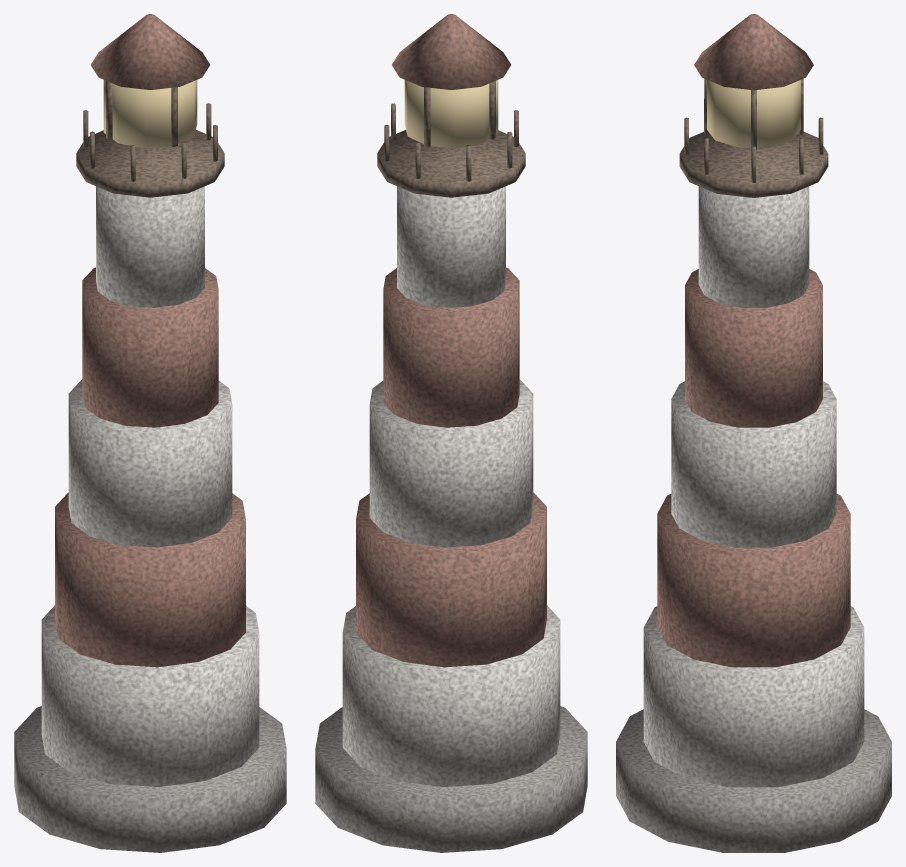
The model's file is prop_mercusuar.obj.
3 views of the same model, side by side, from view 1: azimuth 30°, elevation 25°; view 2: azimuth 150°, elevation 25°; view 3: azimuth 270°, elevation 25° (orthographic).
Parts seen in each view (by area): view 1: prop_mercusuar; view 2: prop_mercusuar; view 3: prop_mercusuar.
Boxes of the visible parts, bbox=[...] form: prop_mercusuar: bbox=[14, 14, 286, 852]; prop_mercusuar: bbox=[315, 14, 587, 852]; prop_mercusuar: bbox=[616, 14, 891, 852].
Size of the model in its own units: 2.24 by 7.18 by 2.3.
1 material, 1 textured.
